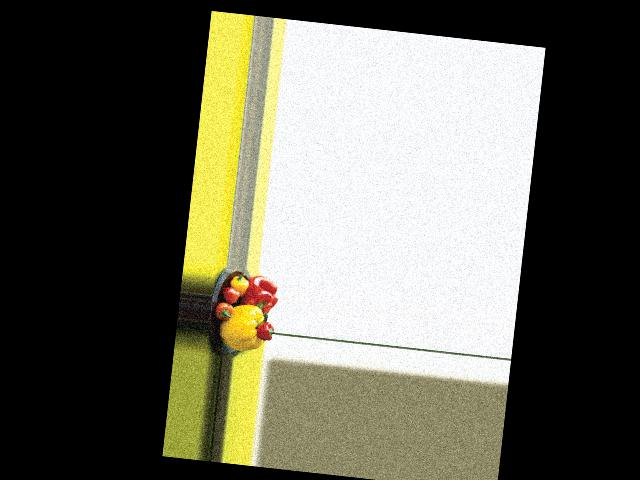bell_pepper: (230, 273, 250, 294)
